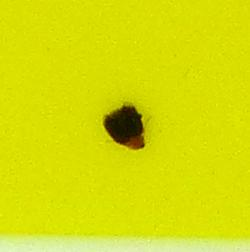Coleoptera: (100, 100, 150, 152)
